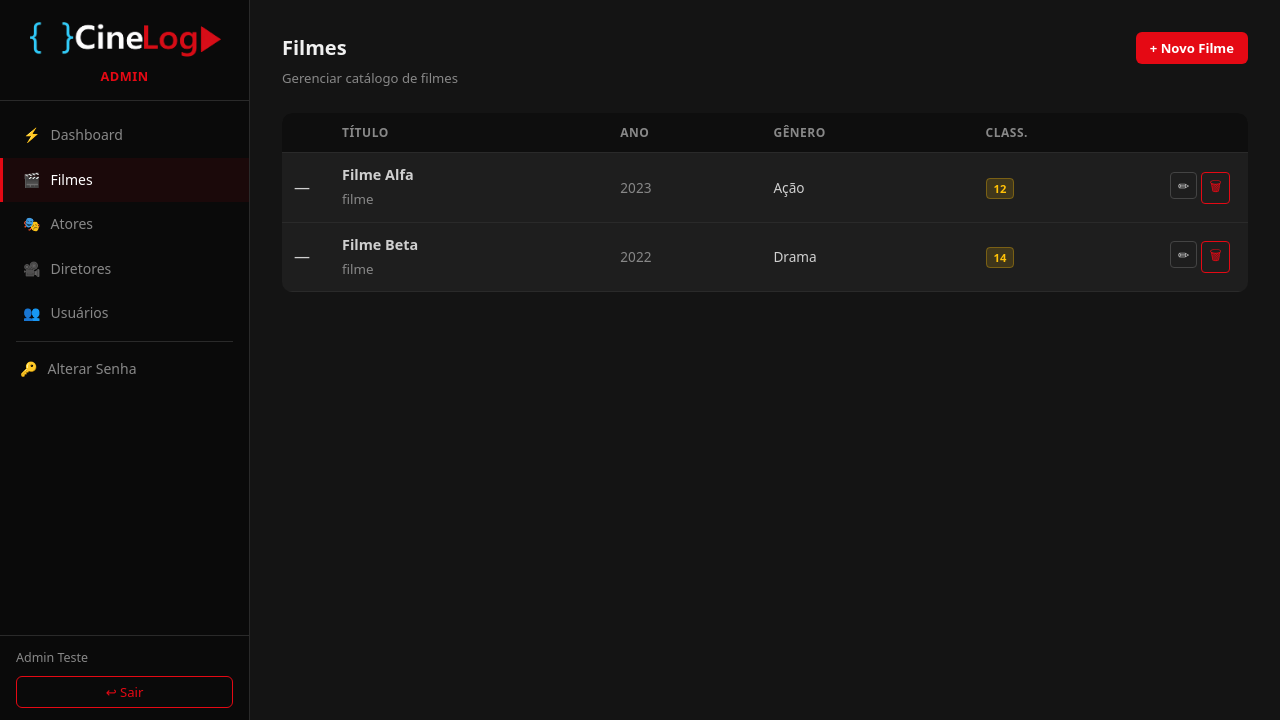
Test: Admin React — Filmes: editar › salva edição e fecha modal
Click the button titled "Editar" in the row of "Filme Alfa". click: (1184, 186)
box: [1170,172,1197,199]
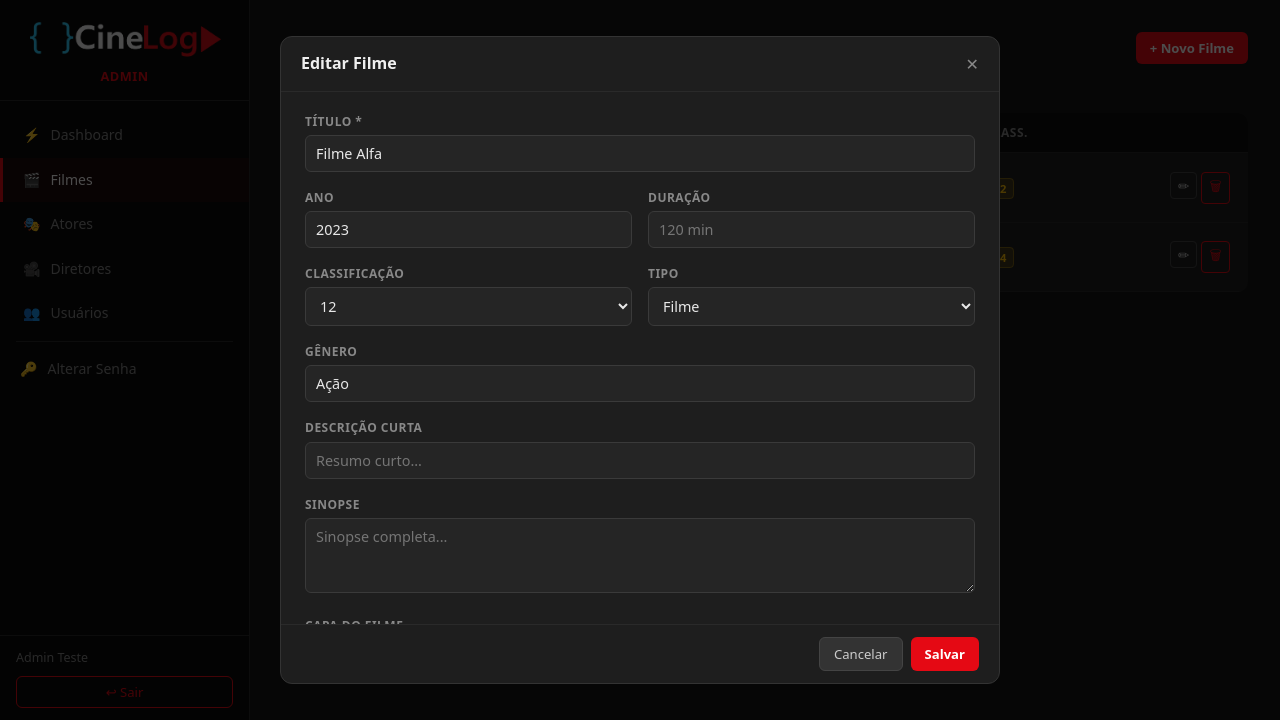
Replace the text in the field with placeholder "Nome do filme" below "TÍTULO *" with "Filme Alfa Editado". click: (640, 154)
box: [305,135,975,172]
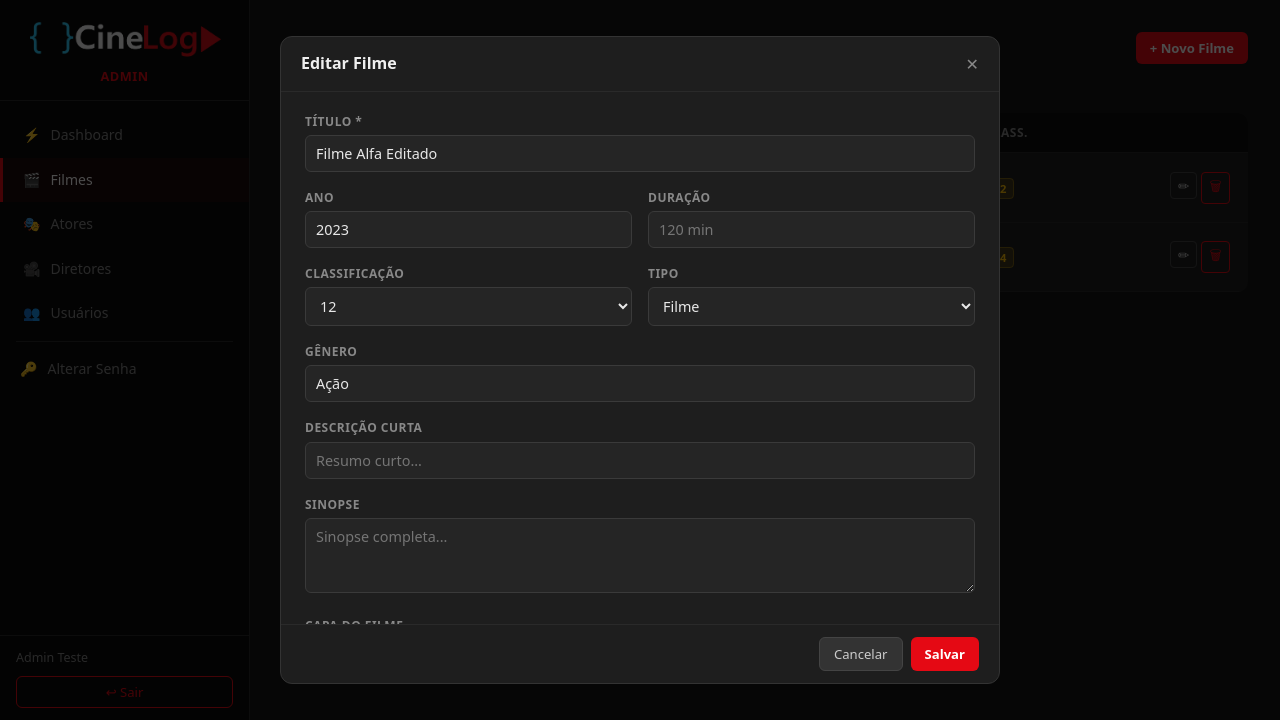
Click the button "Salvar". click: (946, 654)
box: [911,637,980,671]
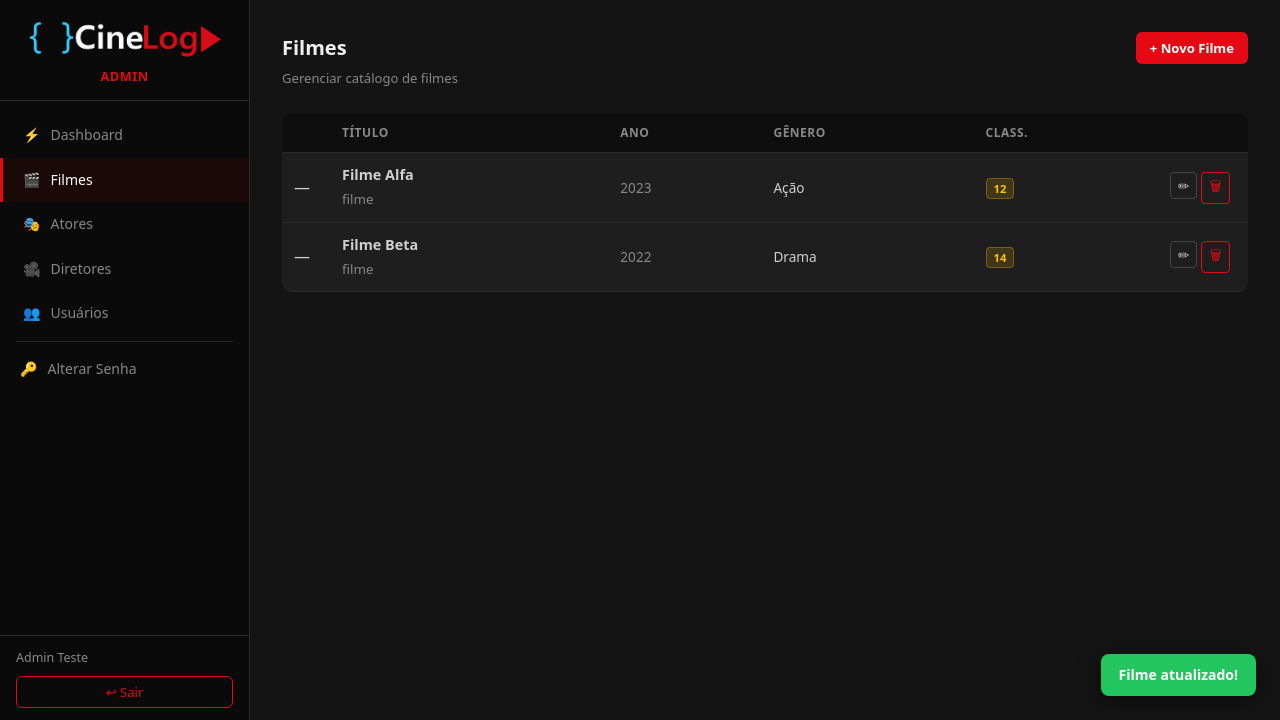
Result: the text "Filme atualizado" is shown at [1119,665,1238,684]
